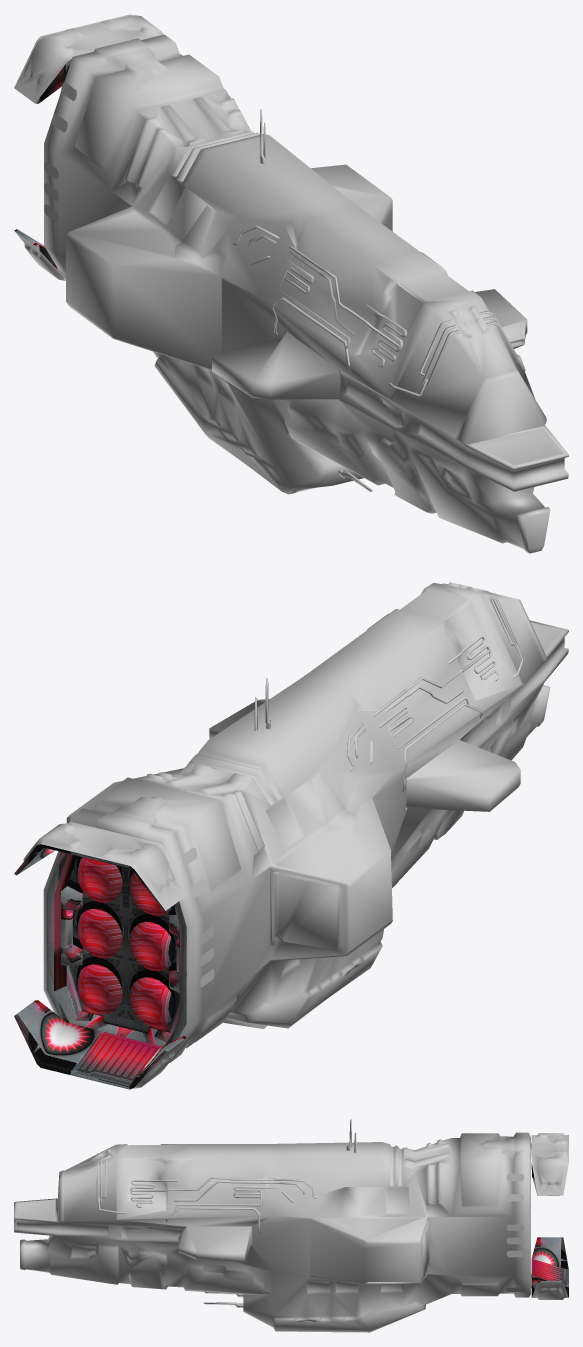
File: heavycruiser1.obj
The picture shows the model from 3 angles, top to bottom: view 1: azimuth 30°, elevation 25°; view 2: azimuth 150°, elevation 25°; view 3: azimuth 270°, elevation 25°; orthographic projection. The views are drawn at different scales.
Visible parts, largest first — view 1: Tai_HeavyCruiser, Tai_HeavyCruiserEngine; view 2: Tai_HeavyCruiser, Tai_HeavyCruiserEngine; view 3: Tai_HeavyCruiser, Tai_HeavyCruiserEngine.
Boxes of the visible parts, <box> form: Tai_HeavyCruiser: <box>14,14,568,553</box>; Tai_HeavyCruiserEngine: <box>14,59,71,269</box>; Tai_HeavyCruiser: <box>23,582,568,1088</box>; Tai_HeavyCruiserEngine: <box>14,844,186,1089</box>; Tai_HeavyCruiser: <box>14,1119,568,1332</box>; Tai_HeavyCruiserEngine: <box>531,1164,568,1297</box>.
Bounding box in the file's own units: 178 × 198 × 492.
